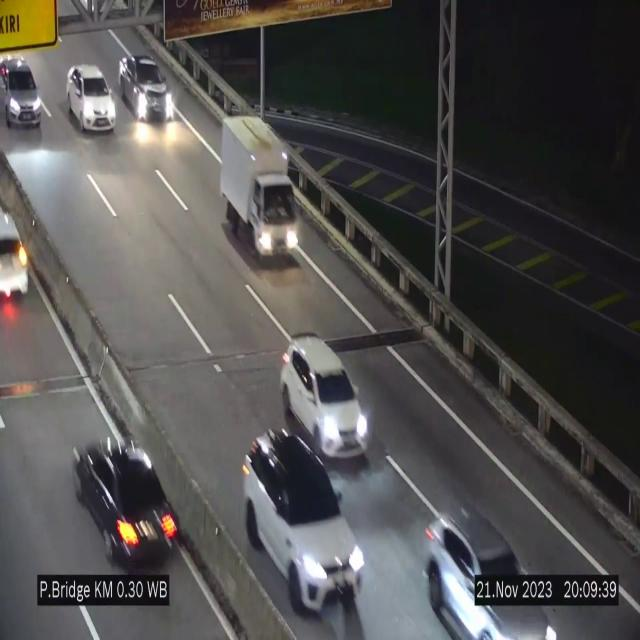Car: (243, 428, 364, 628), (424, 498, 557, 640), (68, 414, 186, 569), (277, 334, 368, 456), (0, 193, 36, 318), (119, 54, 170, 120), (66, 65, 116, 131), (1, 59, 42, 129)
Truck: (219, 112, 299, 262)
